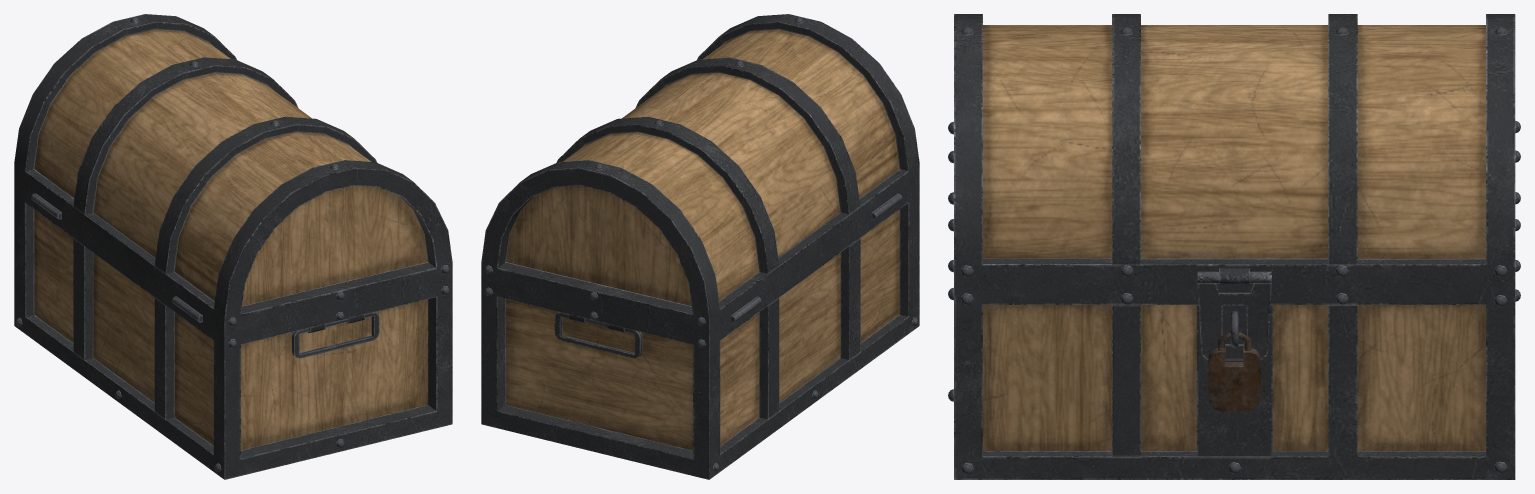
File: treasure_chest.glb
3 views of the same model, side by side, from view 1: azimuth 30°, elevation 25°; view 2: azimuth 150°, elevation 25°; view 3: azimuth 270°, elevation 25° (orthographic). The views are drawn at different scales.
Visible parts, largest first — view 1: Dower chest; view 2: Dower chest; view 3: Dower chest.
Part boxes in pixels (x1,y1,x2,y2): Dower chest: (14, 14, 452, 479); Dower chest: (481, 14, 919, 479); Dower chest: (948, 14, 1520, 479).
Bounding box in the file's own units: 60.79 × 66.45 × 91.11.
3 materials, 3 textured.
